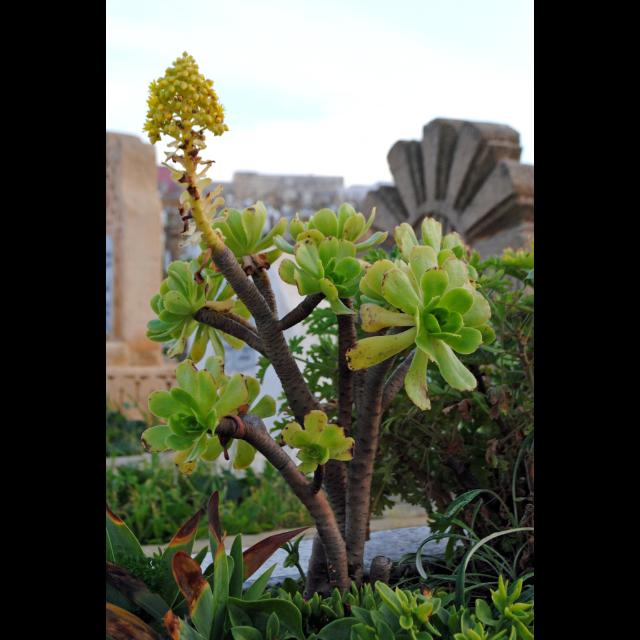Flower: (300, 412, 352, 472)
